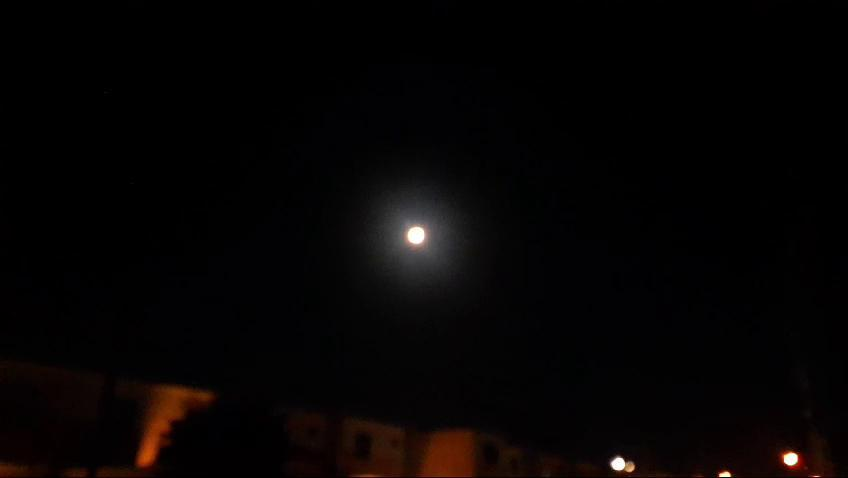moon: (398, 226, 420, 250)
